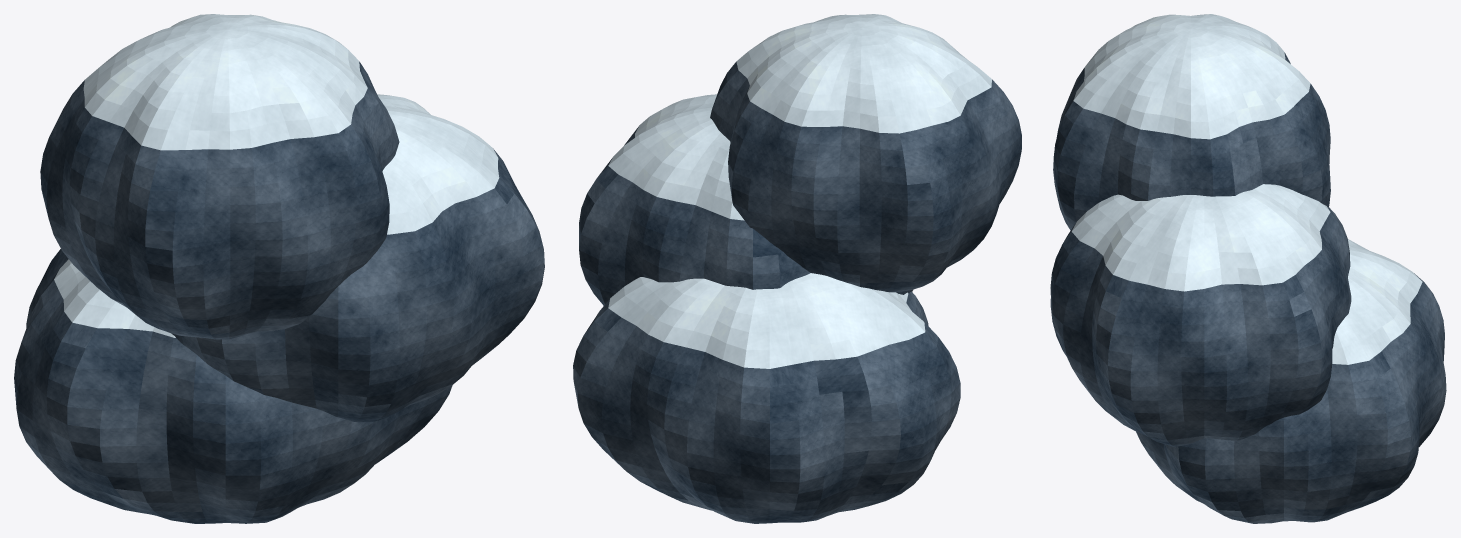
The model's file is ThirdRoom_CliffTower.fbx.
3 views of the same model, side by side, from view 1: azimuth 30°, elevation 25°; view 2: azimuth 150°, elevation 25°; view 3: azimuth 270°, elevation 25° (orthographic). The views are drawn at different scales.
Parts seen in each view (by area): view 1: WO_ThirdRoom_CliffTower_LOD0; view 2: WO_ThirdRoom_CliffTower_LOD0; view 3: WO_ThirdRoom_CliffTower_LOD0.
Boxes of the visible parts, x1=… form: WO_ThirdRoom_CliffTower_LOD0: x1=14, y1=14, x2=544, y2=523; WO_ThirdRoom_CliffTower_LOD0: x1=573, y1=14, x2=1021, y2=523; WO_ThirdRoom_CliffTower_LOD0: x1=1050, y1=14, x2=1446, y2=523.
Size of what is drawn, in the model's own units: 5.18 by 6 by 4.79.
